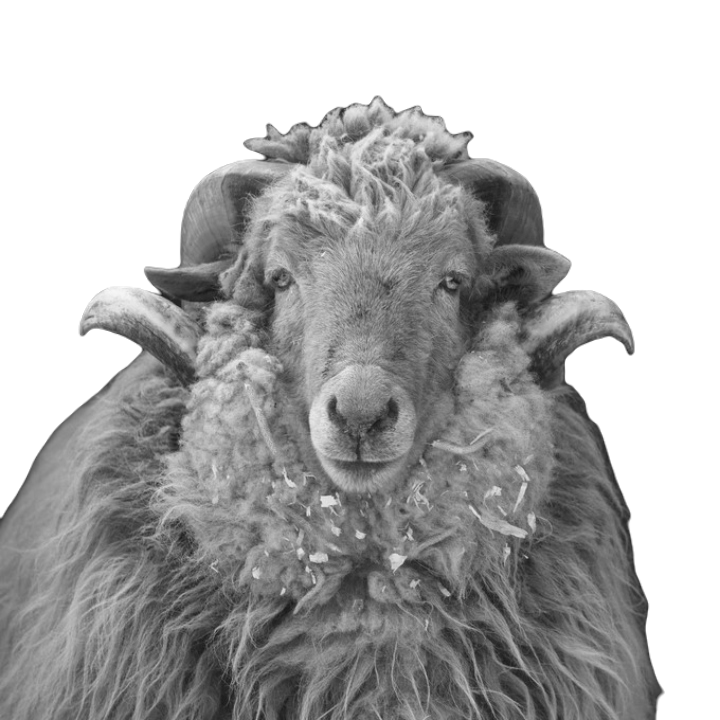Sheep: (0, 90, 665, 719)
